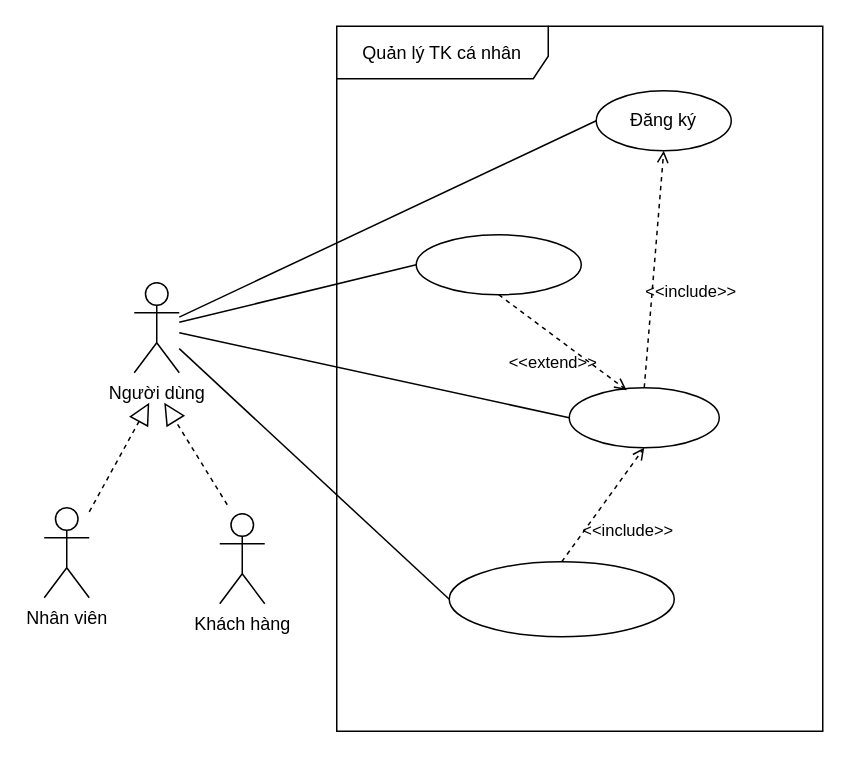
Some shapes in this 849 by 758 pixel diagram are drawn without their labels. The shapes that lost their labels are listed below. From the top down, each one's centre as x and y in pixels, then its label:
[498,264]: Lấy lại mật khẩu
[643,417]: Đăng nhập
[561,598]: Chỉnh sửa thông tin cá nhân
